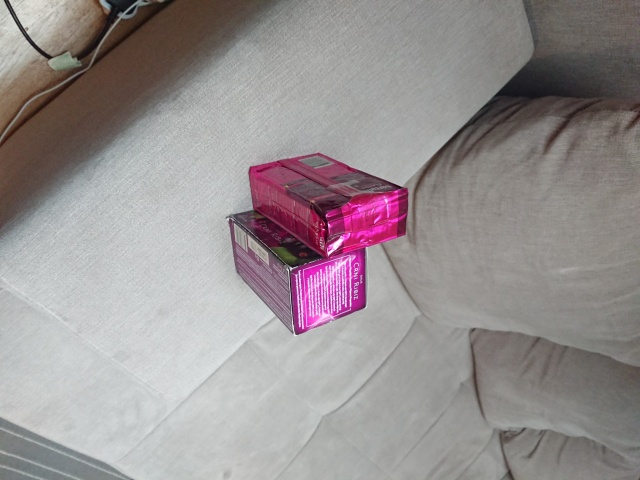Barcaffe Classic Original 225g: (246, 150, 411, 263)
Franck Black Currant Tea 60g: (223, 203, 372, 339)
